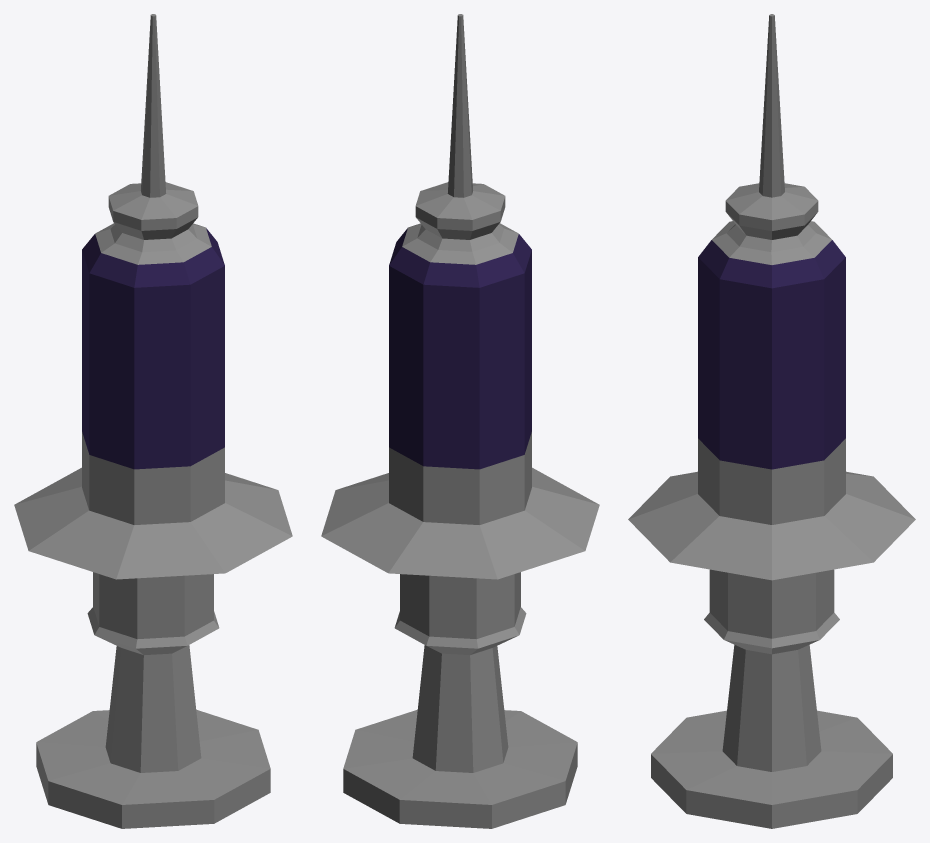
File: injection.fbx
3 renders of one model, left to right at view 1: azimuth 30°, elevation 25°; view 2: azimuth 150°, elevation 25°; view 3: azimuth 270°, elevation 25°, orthographic.
Parts seen in each view (by area): view 1: Circle; view 2: Circle; view 3: Circle.
Part boxes in pixels (x1=…): Circle: x1=14, y1=14, x2=292, y2=828; Circle: x1=321, y1=14, x2=599, y2=828; Circle: x1=628, y1=14, x2=915, y2=828.
Size of the model in its own units: 195 by 570 by 195.
